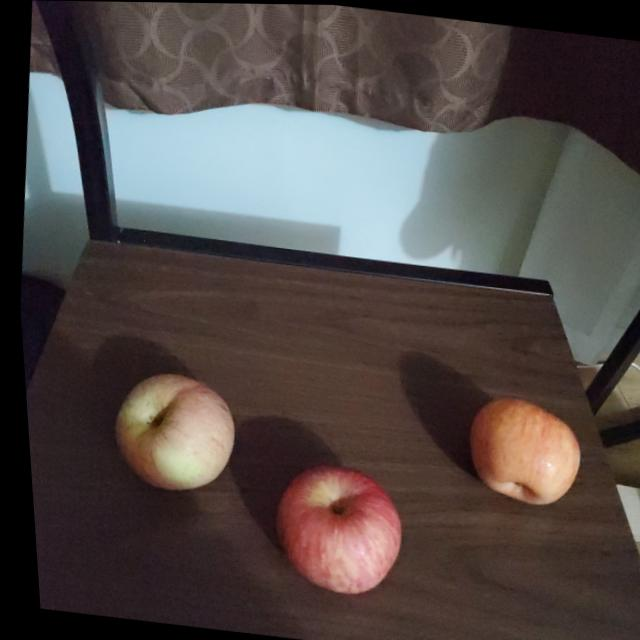apple: (262, 460, 405, 600), (98, 368, 237, 499), (455, 393, 580, 507)
